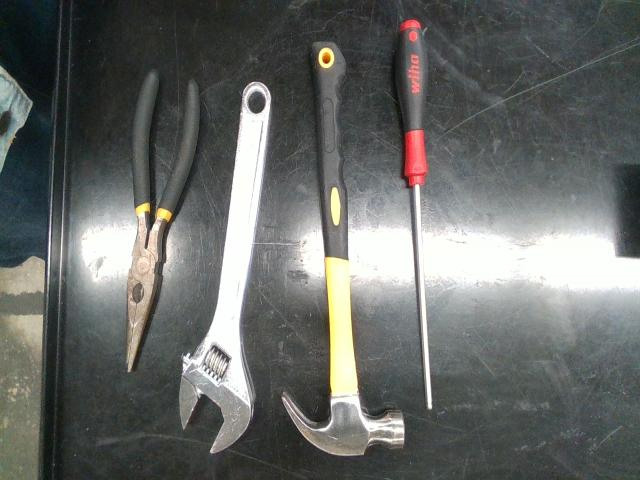Adjustable spanner: (179, 82, 271, 453)
Hammer: (282, 42, 404, 456)
Needle-nose pliers: (126, 70, 200, 371)
Screwdriver: (395, 20, 432, 410)
